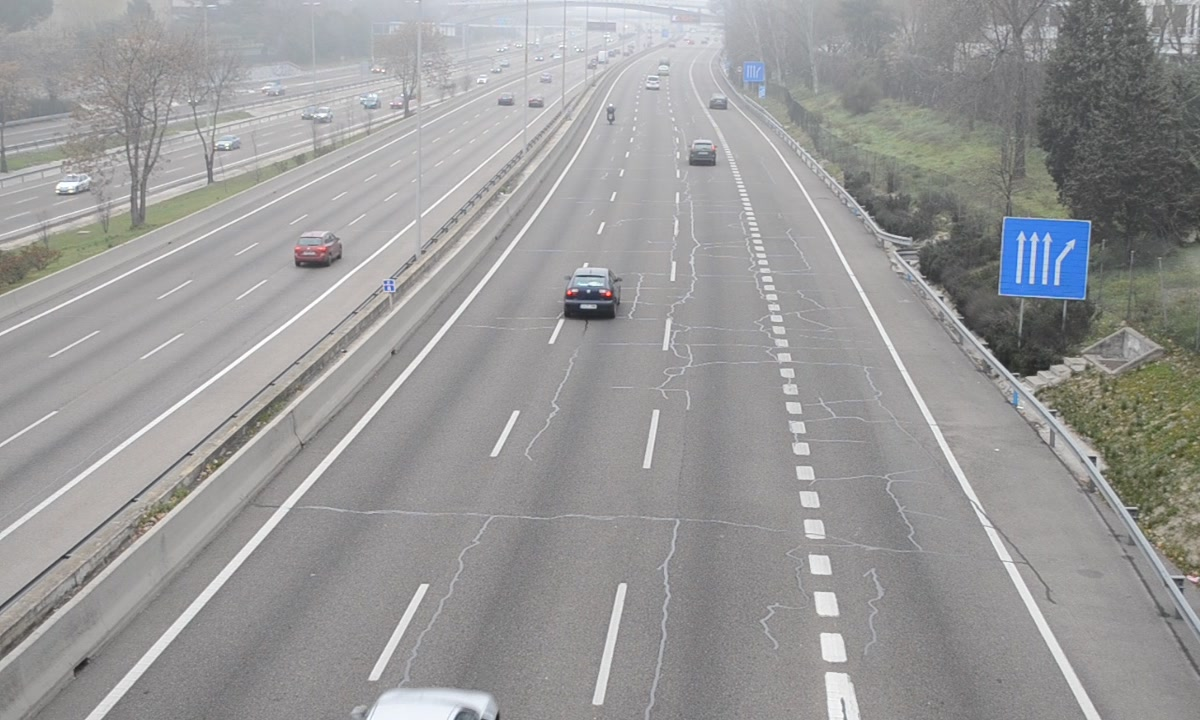car: (563, 268, 621, 321), (689, 139, 718, 168)
motorcycle: (606, 102, 617, 126)
